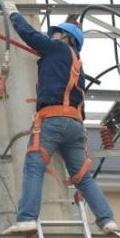boots: (0, 149, 14, 161), (0, 144, 12, 157)
gloves: (0, 0, 19, 18), (0, 0, 15, 13)
hard-hat: (53, 22, 84, 52)
